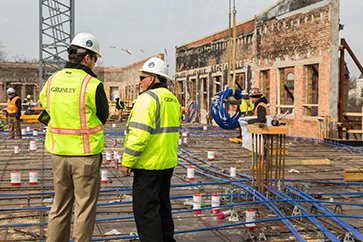epi: (41, 32, 109, 241), (121, 55, 183, 242), (244, 87, 275, 126), (3, 86, 23, 139), (228, 88, 253, 121), (111, 93, 126, 124), (24, 93, 33, 107)
